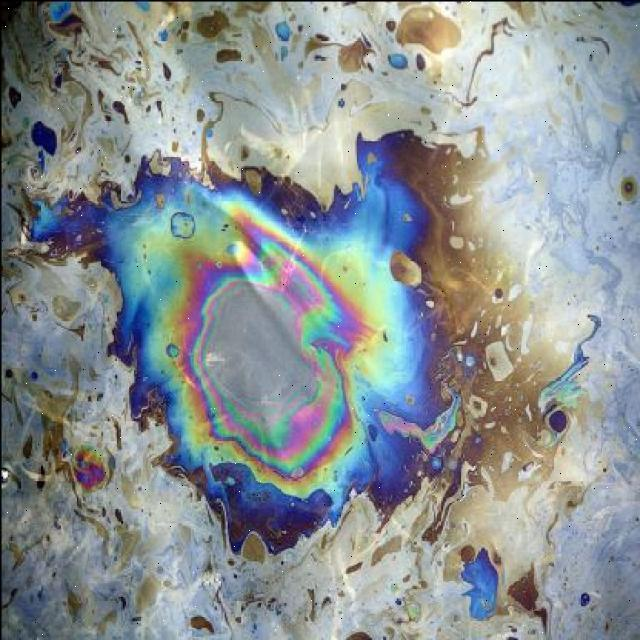oil spill: (32, 134, 460, 554)
